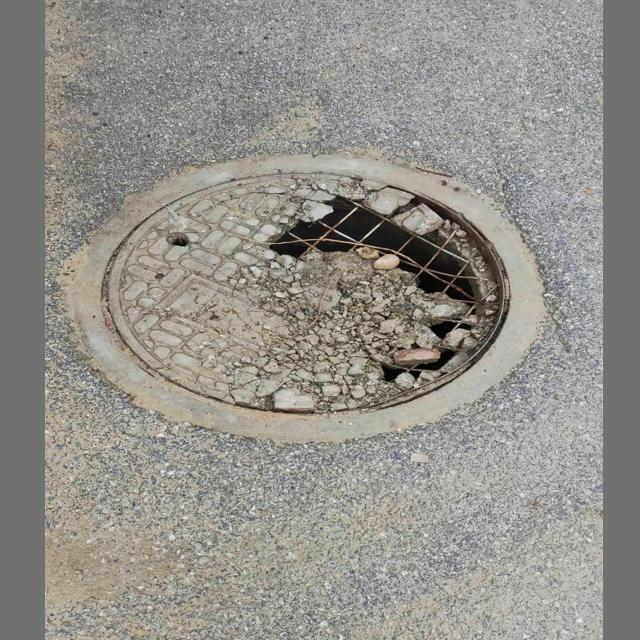broke: (75, 156, 545, 445)
